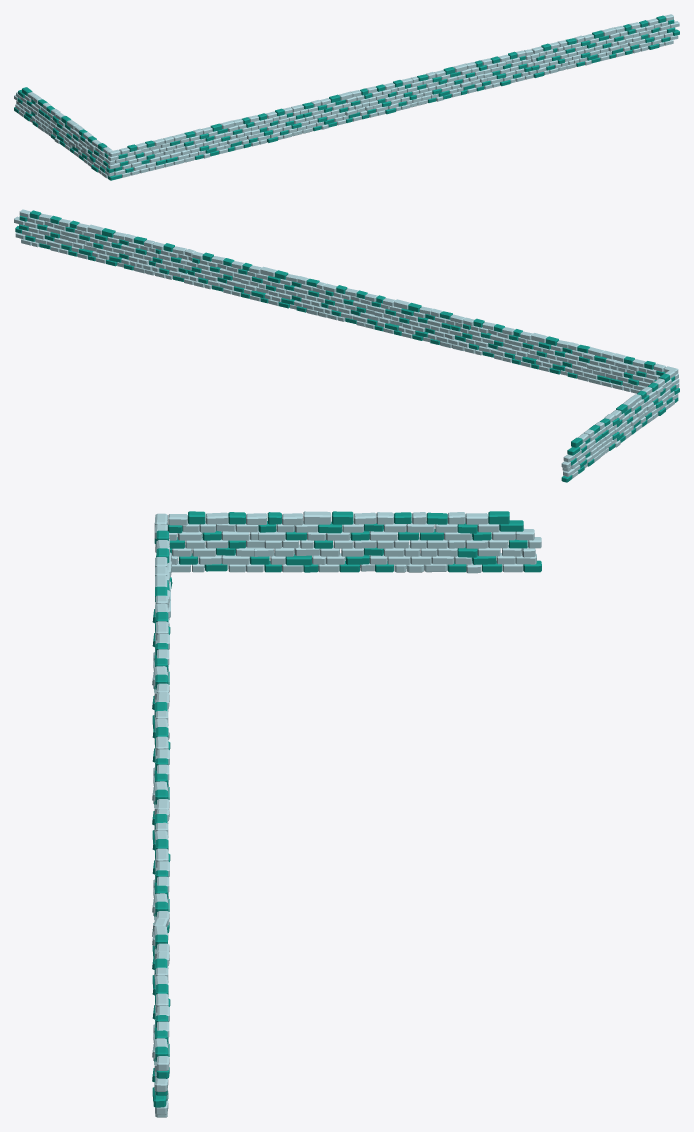
File: SM_Wall05.fbx
3 views of the same model, one above another, from view 1: azimuth 30°, elevation 25°; view 2: azimuth 150°, elevation 25°; view 3: azimuth 270°, elevation 25° (orthographic). The views are drawn at different scales.
Visible parts, largest first — view 1: Wall05; view 2: Wall05; view 3: Wall05.
Part boxes in pixels (x1=…): Wall05: x1=14, y1=14, x2=679, y2=180; Wall05: x1=14, y1=209, x2=679, y2=482; Wall05: x1=152, y1=511, x2=541, y2=1117.
Bounding box in the file's own units: 6337 × 306 × 1872.
